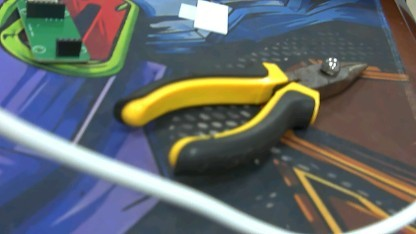ironball: (316, 53, 339, 73)
